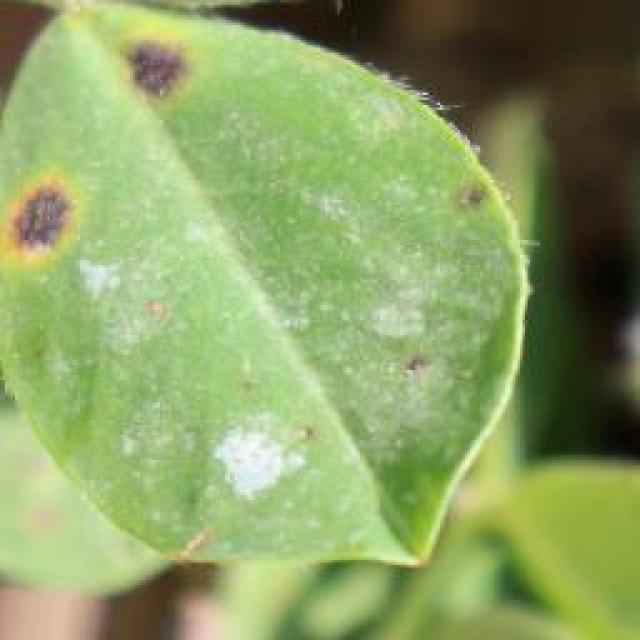Sigatoka: (0, 172, 107, 286), (114, 10, 208, 115), (217, 391, 329, 462), (356, 332, 459, 396), (430, 161, 500, 226)
